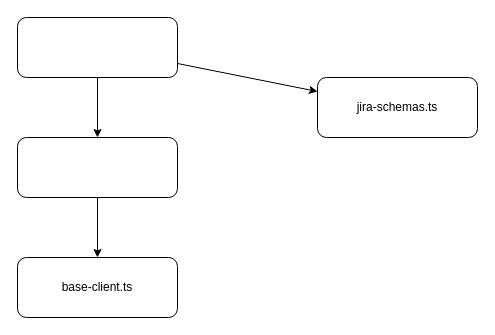
This 495x335 diagram has some shape labels left out. The centre of each missing label's shape, as x and y in pixels:
jira-client.ts: (x=97, y=167)
jira-issue-tools.ts: (x=97, y=47)
